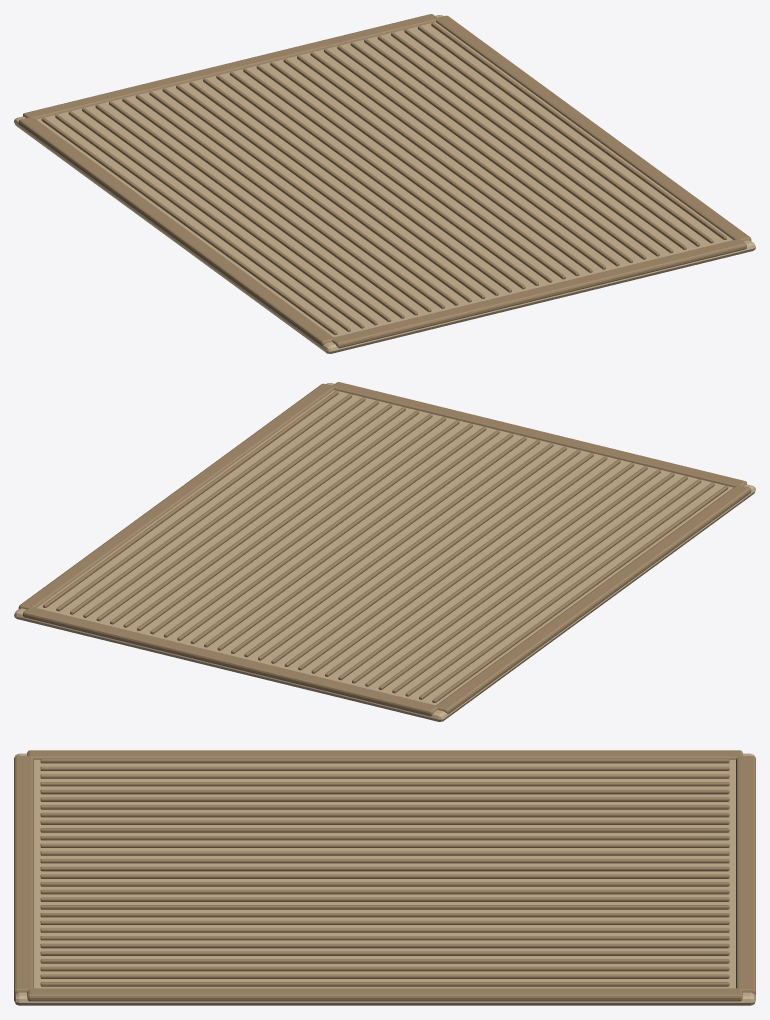
The model's file is outdoor-rug.glb.
3 renders of one model, top to bottom at view 1: azimuth 30°, elevation 25°; view 2: azimuth 150°, elevation 25°; view 3: azimuth 270°, elevation 25°, orthographic. The views are drawn at different scales.
Visible parts, largest first — view 1: Outdoor rug; view 2: Outdoor rug; view 3: Outdoor rug.
Boxes of the visible parts, <box> form: Outdoor rug: <box>14,14,755,353</box>; Outdoor rug: <box>14,382,755,721</box>; Outdoor rug: <box>14,750,755,1005</box>.
Size of the model in its own units: 0.88 by 0.022 by 1.12.
